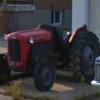Tractor: (3, 19, 100, 92)
